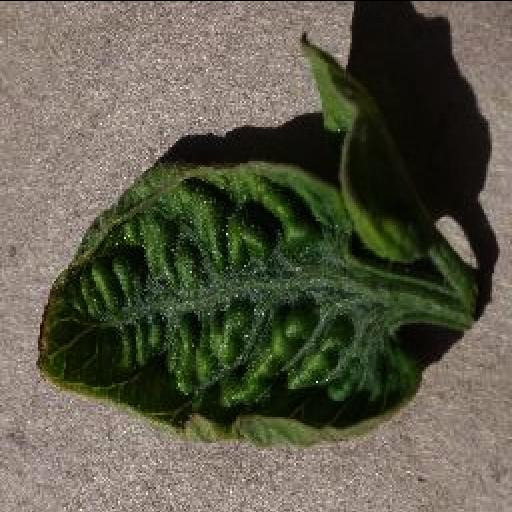disease_tomato: (30, 158, 416, 450)
